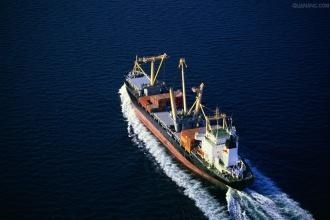Cargoship: (127, 50, 256, 183)
